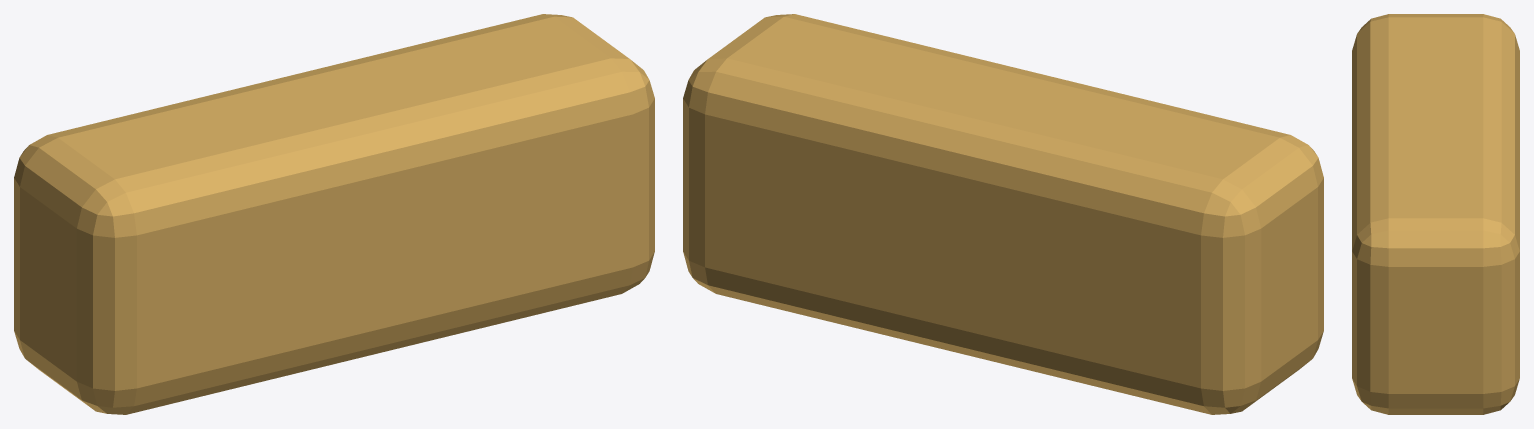
The model's file is SM_HC_BeatHalo_33.fbx.
3 views of the same model, side by side, from view 1: azimuth 30°, elevation 25°; view 2: azimuth 150°, elevation 25°; view 3: azimuth 270°, elevation 25° (orthographic). The views are drawn at different scales.
Parts seen in each view (by area): view 1: SM_HC_BeatHalo_33; view 2: SM_HC_BeatHalo_33; view 3: SM_HC_BeatHalo_33.
Boxes of the visible parts, x1,y1,x2,y2 form: SM_HC_BeatHalo_33: [14, 14, 654, 414]; SM_HC_BeatHalo_33: [683, 14, 1323, 414]; SM_HC_BeatHalo_33: [1352, 14, 1519, 414].
Bounding box in the file's own units: 180 × 55 × 70.
